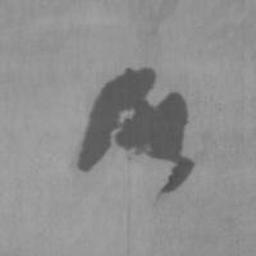Oil spot: (77, 67, 195, 193)
